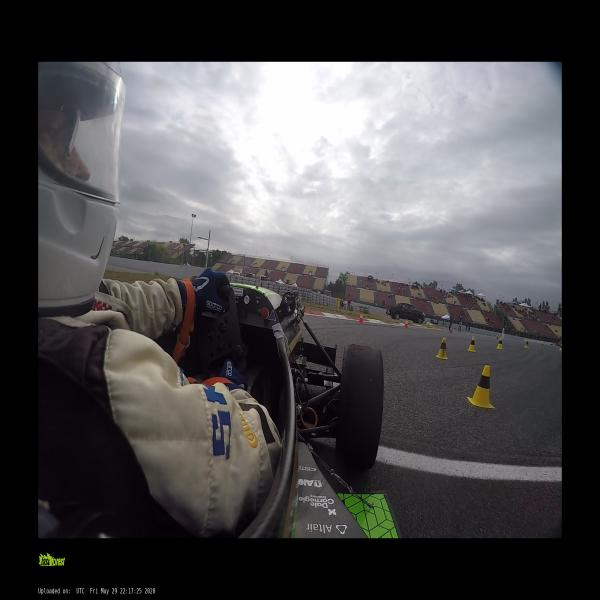orange_cone: (358, 312, 364, 324), (404, 319, 408, 328), (449, 326, 452, 334), (540, 341, 544, 346), (496, 334, 498, 340)
yellow_cone: (467, 365, 495, 409), (436, 337, 448, 360), (467, 337, 476, 352), (496, 338, 504, 350), (524, 340, 529, 348), (558, 345, 562, 351)
